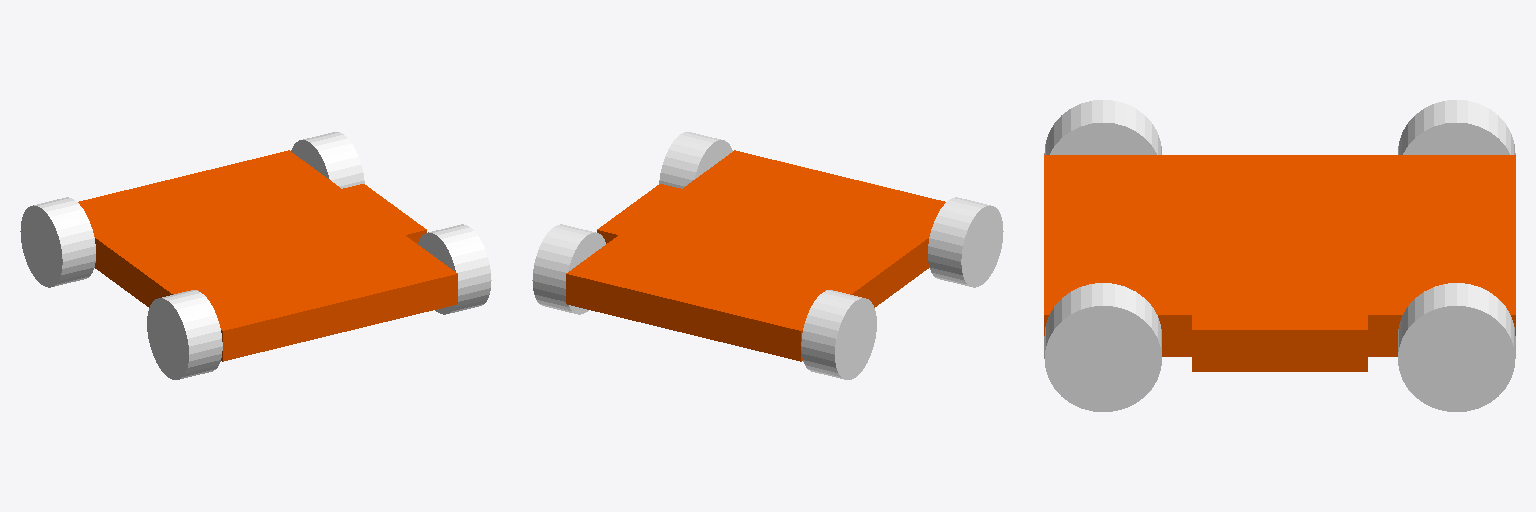
robot.urdf — mrobot_description:
<robot name="mrobot_description">

  <link name="base_link">
    <visual>
      <origin xyz="0 0 0" rpy="0 0 0" />
      <geometry>
        <box size="0.322 0.40 0.04" />
      </geometry>
      <material name="yellow">
        <color rgba="1 0.4 0 1" />
      </material>
    </visual>
  </link>

  <joint name="left_axle_joint" type="fixed">
    <origin xyz="0 0.150 0" rpy="0 0 0" />
    <parent link="base_link" />
    <child  link="left_axle" />
  </joint>

  <link name="left_axle">
    <visual>
      <origin xyz="0 0 0" rpy="0 1.5704 0" />
      <geometry>
        <cylinder radius="0.010" length="0.368" />
      </geometry>
      <material name="white">
        <color rgba="1 1 1 0.9" />
      </material>
    </visual>
  </link>

  <joint name="left_front_wheel_joint" type="continuous">
    <origin xyz="0.184 0 0" rpy="0 0 0" />
    <parent link="left_axle" />
    <child  link="left_front_wheel" />
    <axis xyz="1 0 0" />
  </joint>

  <link name="left_front_wheel">
    <visual>
      <origin xyz="0 0 0" rpy="0 1.5704 0" />
      <geometry>
        <cylinder radius="0.050" length="0.046" />
      </geometry>
      <material name="white">
        <color rgba="1 1 1 0.9" />
      </material>
    </visual>
  </link>

  <joint name="left_behind_wheel_joint" type="continuous">
    <origin xyz="-0.184 0 0" rpy="0 0 0" />
    <parent link="left_axle" />
    <child  link="left_behind_wheel" />
    <axis xyz="1 0 0" />
  </joint>

  <link name="left_behind_wheel">
    <visual>
      <origin xyz="0 0 0" rpy="0 1.5704 0" />
      <geometry>
        <cylinder radius="0.050" length="0.046" />
      </geometry>
      <material name="white">
        <color rgba="1 1 1 0.9" />
      </material>
    </visual>
  </link>

  <joint name="right_axle_joint" type="fixed">
    <origin xyz="0 -0.150 0" rpy="0 0 0" />
    <parent link="base_link" />
    <child  link="right_axle" />
  </joint>

  <link name="right_axle">
    <visual>
      <origin xyz="0 0 0" rpy="0 1.5704 0" />
      <geometry>
        <cylinder radius="0.010" length="0.368" />
      </geometry>
      <material name="white">
        <color rgba="1 1 1 0.9" />
      </material>
    </visual>
  </link>

  <joint name="right_front_wheel_joint" type="continuous">
    <origin xyz="0.184 0 0" rpy="0 0 0" />
    <parent link="right_axle" />
    <child  link="right_front_wheel" />
    <axis xyz="1 0 0" />
  </joint>

  <link name="right_front_wheel">
    <visual>
      <origin xyz="0 0 0" rpy="0 1.5704 0" />
      <geometry>
        <cylinder radius="0.050" length="0.046" />
      </geometry>
      <material name="white">
        <color rgba="1 1 1 0.9" />
      </material>
    </visual>
  </link>

  <joint name="right_behind_wheel_joint" type="continuous">
    <origin xyz="-0.184 0 0" rpy="0 0 0" />
    <parent link="right_axle" />
    <child  link="right_behind_wheel" />
    <axis xyz="1 0 0" />
  </joint>

  <link name="right_behind_wheel">
    <visual>
      <origin xyz="0 0 0" rpy="0 1.5704 0" />
      <geometry>
        <cylinder radius="0.050" length="0.046" />
      </geometry>
      <material name="white">
        <color rgba="1 1 1 0.9" />
      </material>
    </visual>
  </link>

  <joint name="front_centre_joint" type="fixed">
    <origin xyz="0.161 0 0" rpy="0 0 0" />
    <parent link="base_link" />
    <child  link="front_centre_link" />
  </joint>

  <link name="front_centre_link">
    <visual>
      <origin xyz="0 0 0" rpy="0 0 0" />
      <geometry>
        <box size="0.060 0.150 0.04" />
      </geometry>
      <material name="red">
        <color rgba="1 0.4 0 1" />
      </material>
    </visual>
  </link>

</robot>

--- Facts derived from the render (not from the file) ---
3 views of the same robot in one strip: view 1: azimuth 30°, elevation 25°; view 2: azimuth 150°, elevation 25°; view 3: azimuth 270°, elevation 25° (orthographic).
Model mrobot_description with 8 links and 7 joints (4 continuous, 3 fixed), rooted at base_link, posed every joint at zero.
Links seen in each view (by area): view 1: base_link, right_behind_wheel, left_behind_wheel, right_front_wheel, left_front_wheel, front_centre_link; view 2: base_link, left_behind_wheel, right_behind_wheel, left_front_wheel, right_front_wheel, front_centre_link; view 3: base_link, left_front_wheel, right_front_wheel, front_centre_link, left_behind_wheel, right_behind_wheel.
Link boxes in pixels (x1,y1,x2,y2): base_link: (78,150,457,361); right_behind_wheel: (147,290,222,379); left_behind_wheel: (20,197,95,287); right_front_wheel: (418,224,491,314); left_front_wheel: (291,132,364,188); front_centre_link: (323,184,426,243); base_link: (566,150,945,361); left_behind_wheel: (801,290,876,379); right_behind_wheel: (928,197,1003,287); left_front_wheel: (532,224,605,314); right_front_wheel: (659,132,732,188); front_centre_link: (597,184,702,243); base_link: (1044,155,1515,356); left_front_wheel: (1398,283,1515,411); right_front_wheel: (1044,283,1161,411); front_centre_link: (1192,300,1367,371); left_behind_wheel: (1398,100,1515,154); right_behind_wheel: (1044,100,1161,154).
Size in the robot's own frame: 0.414 by 0.4 by 0.1 metres.
Geometry: primitives only (box / cylinder / sphere), no mesh files.